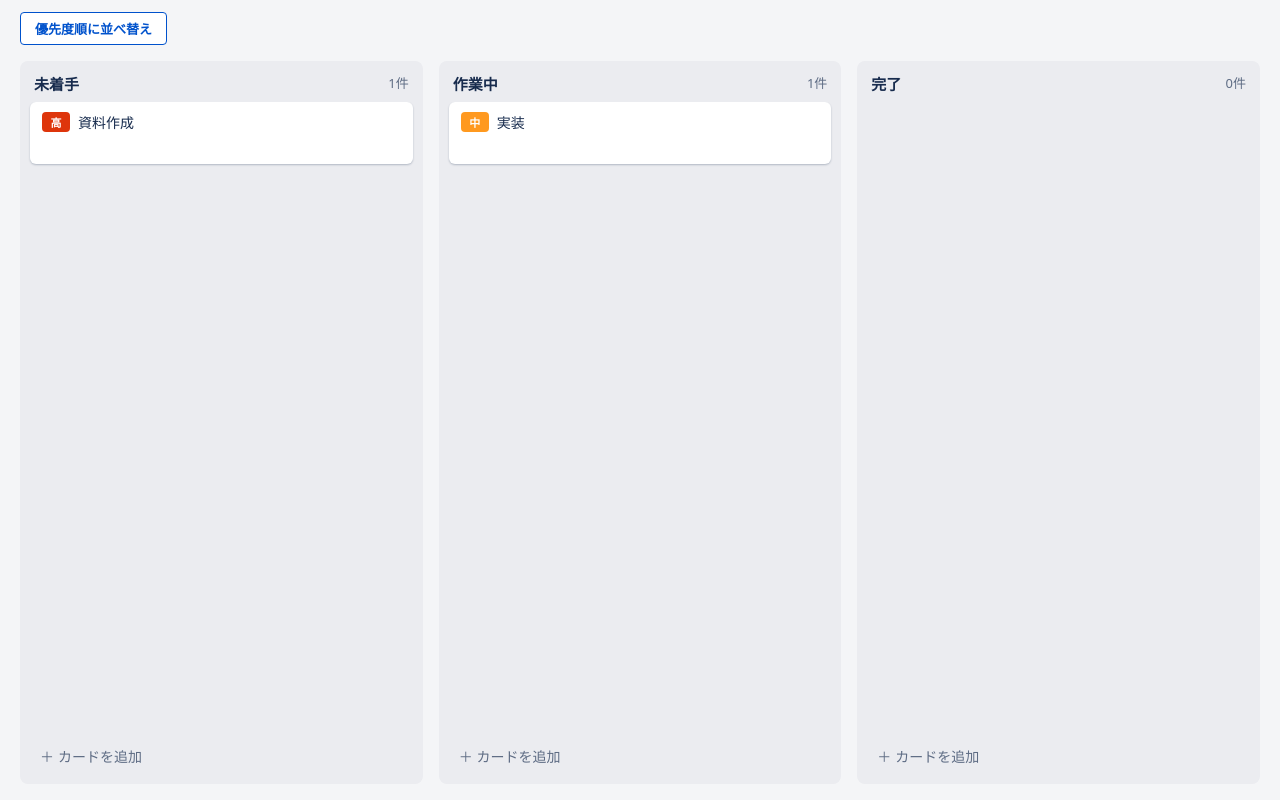
Test: Board › カードを登録すると POST のあとにそのリストを取り直し、新しい並びで表示する
Click the 1st button "＋ カードを追加".
click(91, 757)  # box [30, 738, 413, 774]
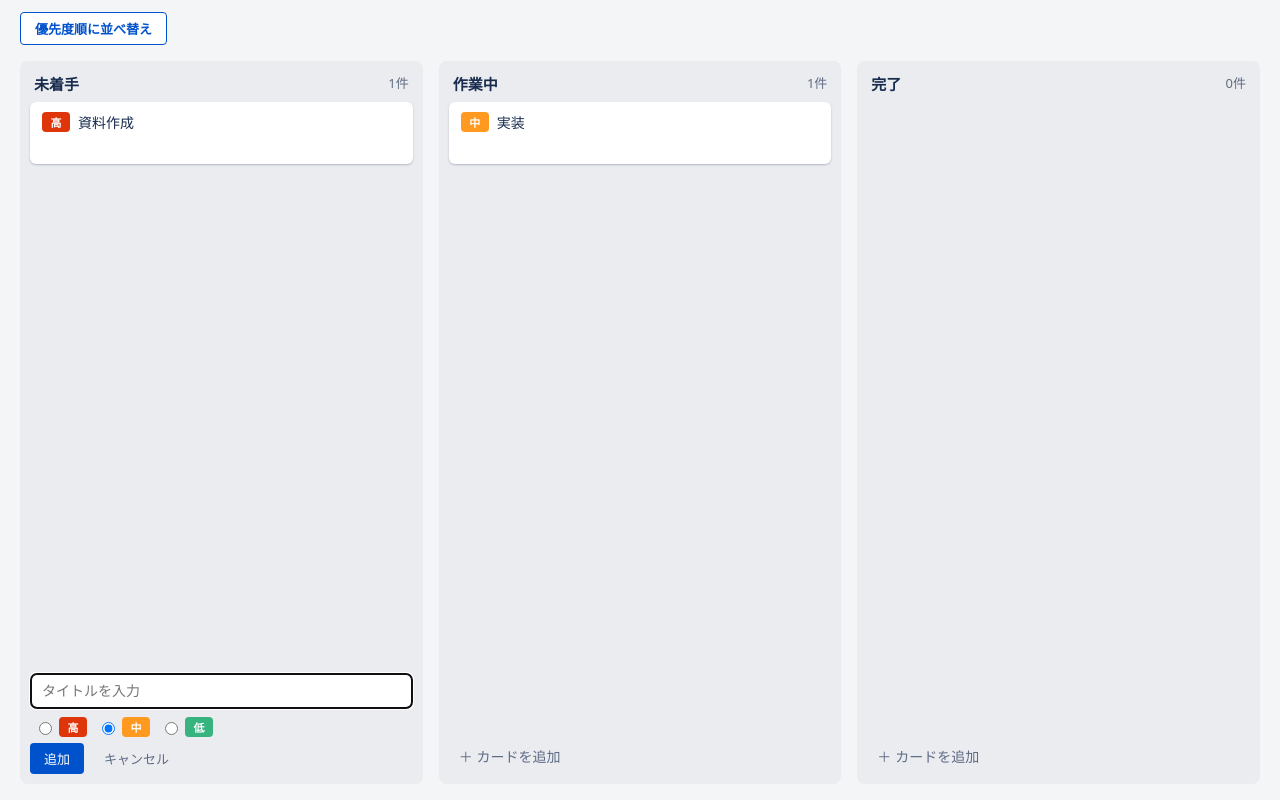
Type "買い物" into the field.
click(221, 691); type("買い物")  # box [30, 673, 413, 709]
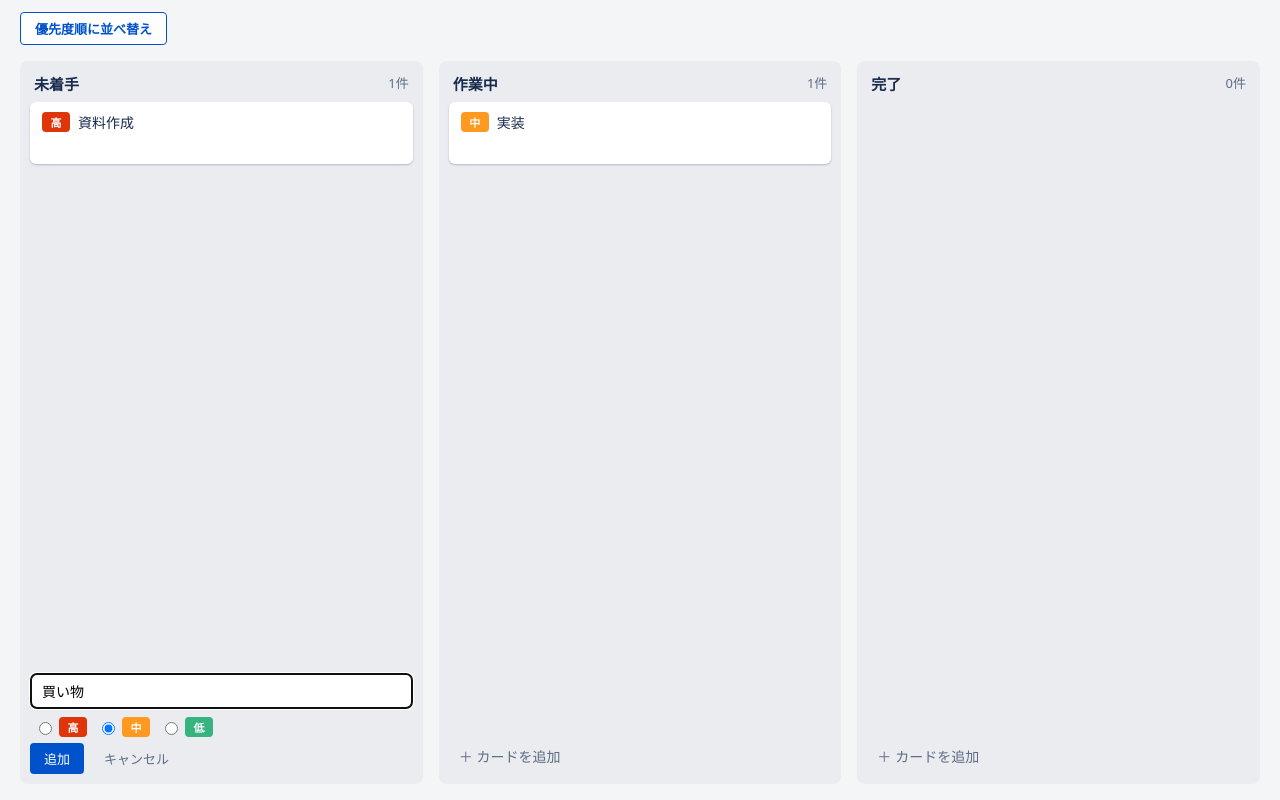
Click the radio button labelled "高".
click(46, 728)  # box [39, 722, 52, 735]
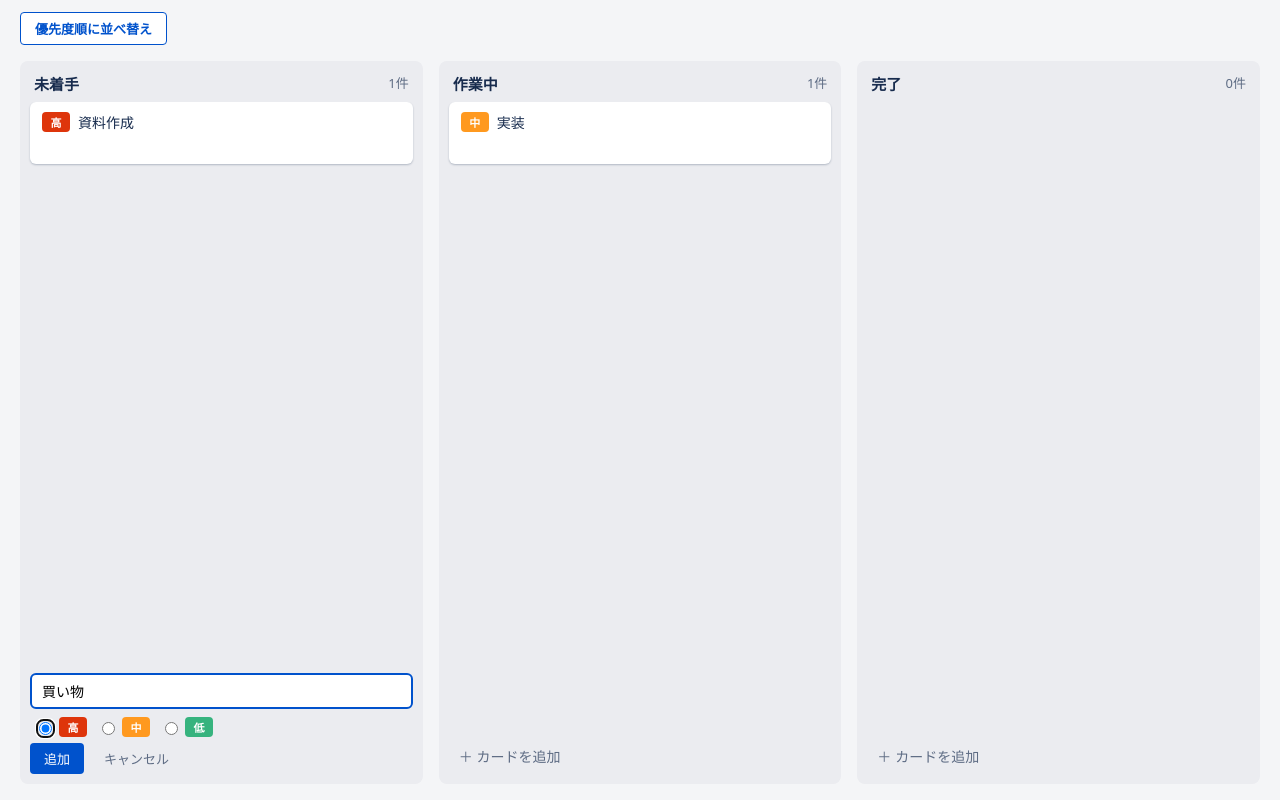
Click the button "追加".
click(57, 758)  # box [30, 743, 84, 774]
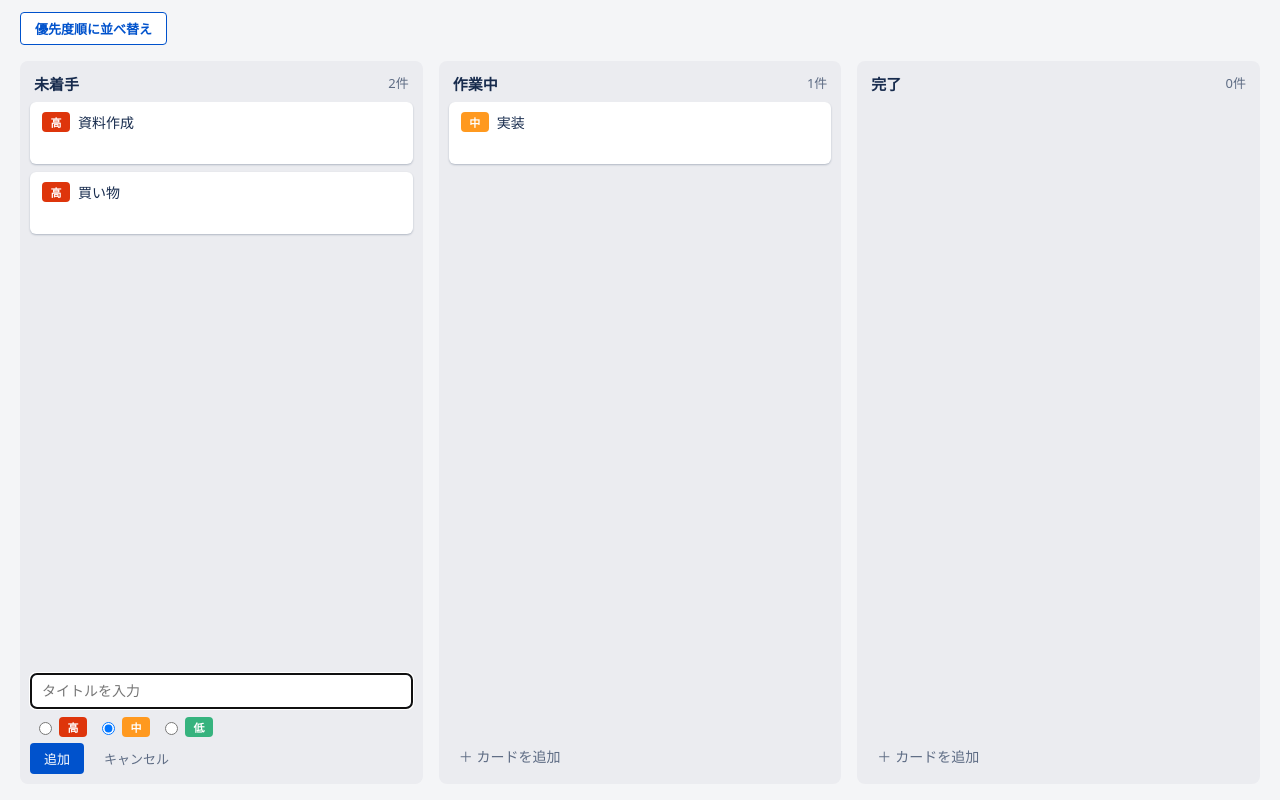
Expected: the text "実装" is shown, [497, 112, 525, 132]
Result: the text "買い物" is shown at [78, 182, 120, 202]
Result: the text "2件" is shown at [388, 73, 409, 94]
